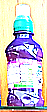blueberries: (6, 3, 44, 107)
